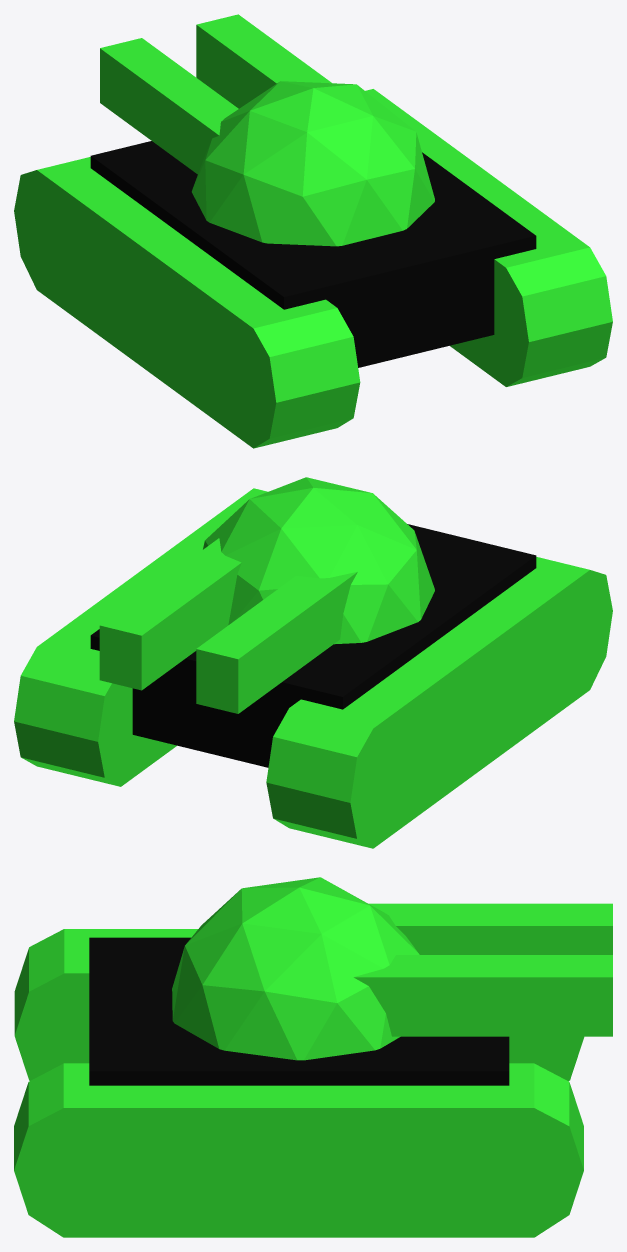
File: bigUnit.fbx
3 renders of one model, top to bottom at view 1: azimuth 30°, elevation 25°; view 2: azimuth 150°, elevation 25°; view 3: azimuth 270°, elevation 25°, orthographic. The views are drawn at different scales.
Visible parts, largest first — view 1: Icosphere; view 2: Icosphere; view 3: Icosphere.
Boxes of the visible parts, x1,y1,x2,y2 form: Icosphere: (14,14,612,448); Icosphere: (14,477,612,848); Icosphere: (14,877,612,1237).
Bounding box in the file's own units: 5.75 × 3.93 × 8.16.
Materials: 1 (1 with a texture image).
